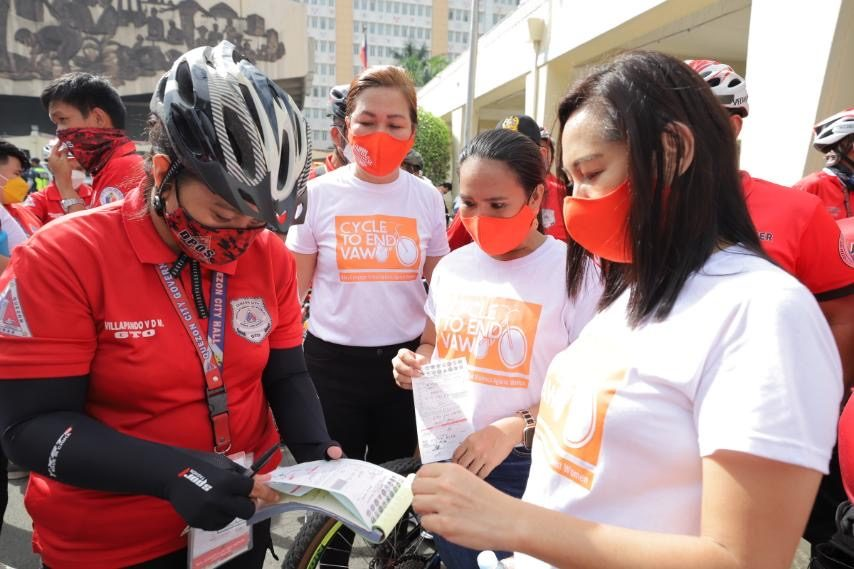helmet: (148, 40, 308, 267)
